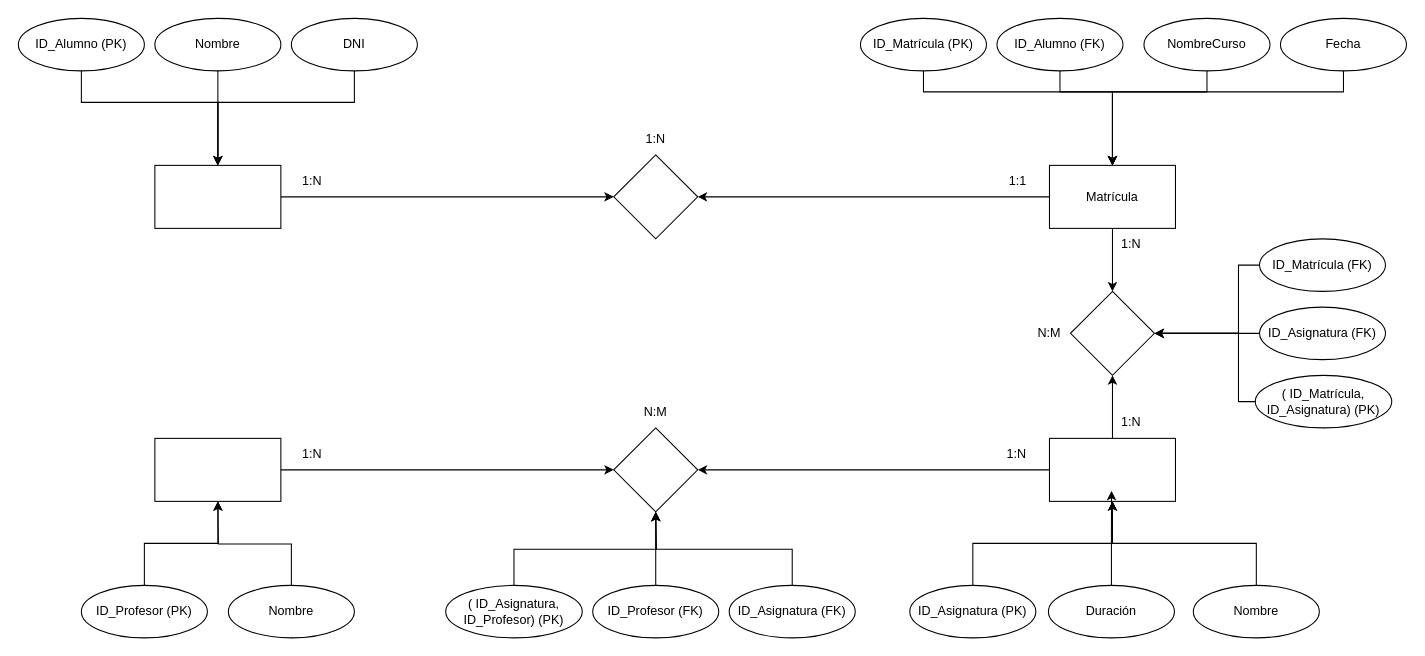
Image size: 1425x656. Some labels were removed from this diagram. Each missing label, with the centre of its shape:
"alumno" goes at point 217,196.
"Asignatura" goes at point 1111,469.
"Imparte" goes at point 655,469.
"Profesor" goes at point 217,469.
"Realiza" goes at point 655,196.
"Tiene" goes at point 1111,332.
